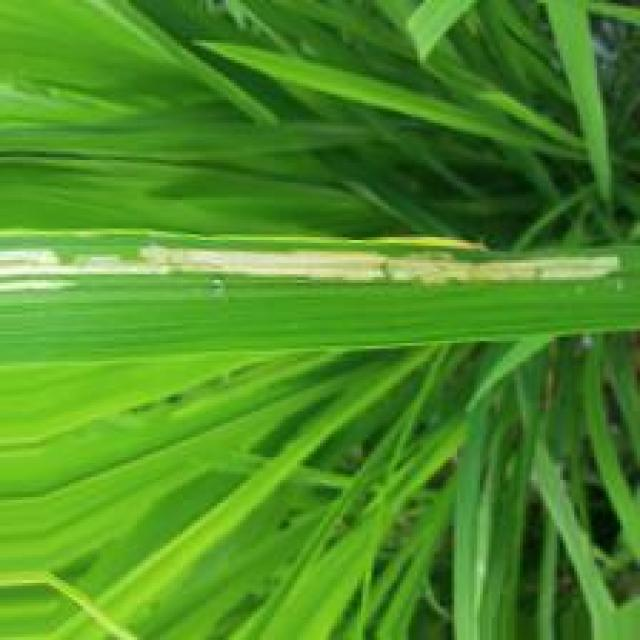Rice_Hispa: (0, 237, 625, 293)
